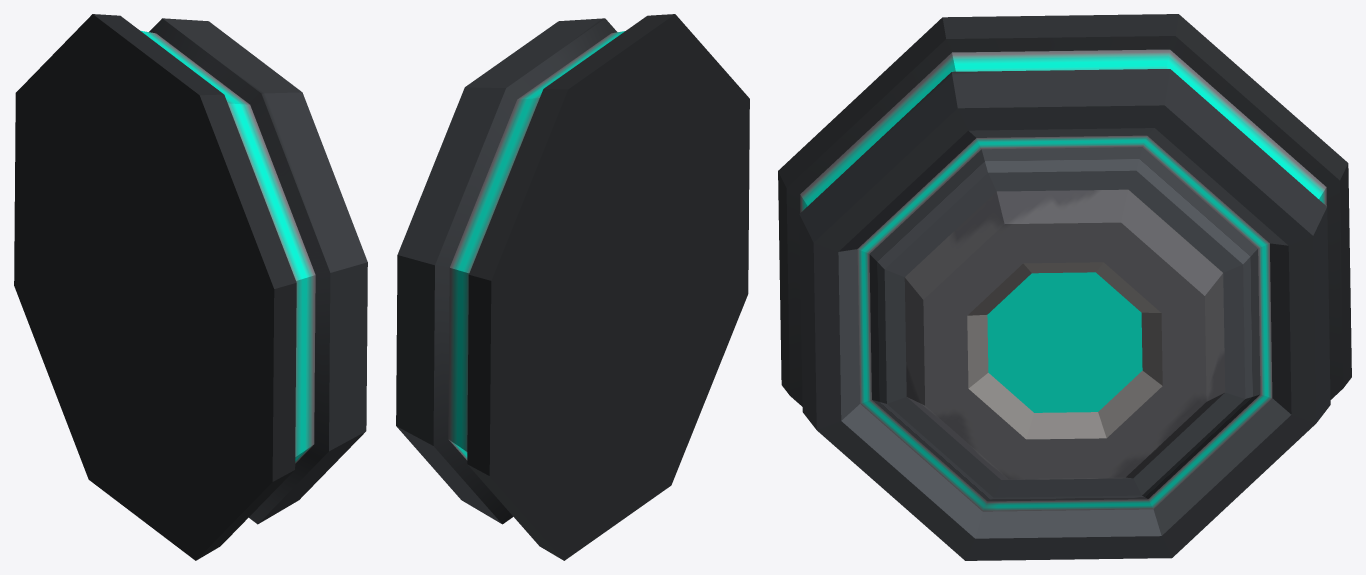
Rendered from SM_Prop_Pipe_Small_Adapter_01.fbx.
3 views of the same model, side by side, from view 1: azimuth 30°, elevation 25°; view 2: azimuth 150°, elevation 25°; view 3: azimuth 270°, elevation 25° (orthographic). The views are drawn at different scales.
Parts seen in each view (by area): view 1: SM_Prop_Pipe_Small_Adapter_01; view 2: SM_Prop_Pipe_Small_Adapter_01; view 3: SM_Prop_Pipe_Small_Adapter_01.
Part boxes in pixels (x1,y1,x2,y2): SM_Prop_Pipe_Small_Adapter_01: (14,14,367,560); SM_Prop_Pipe_Small_Adapter_01: (396,14,749,560); SM_Prop_Pipe_Small_Adapter_01: (778,14,1351,560).
Bounding box in the file's own units: 35.42 × 112 × 112.
